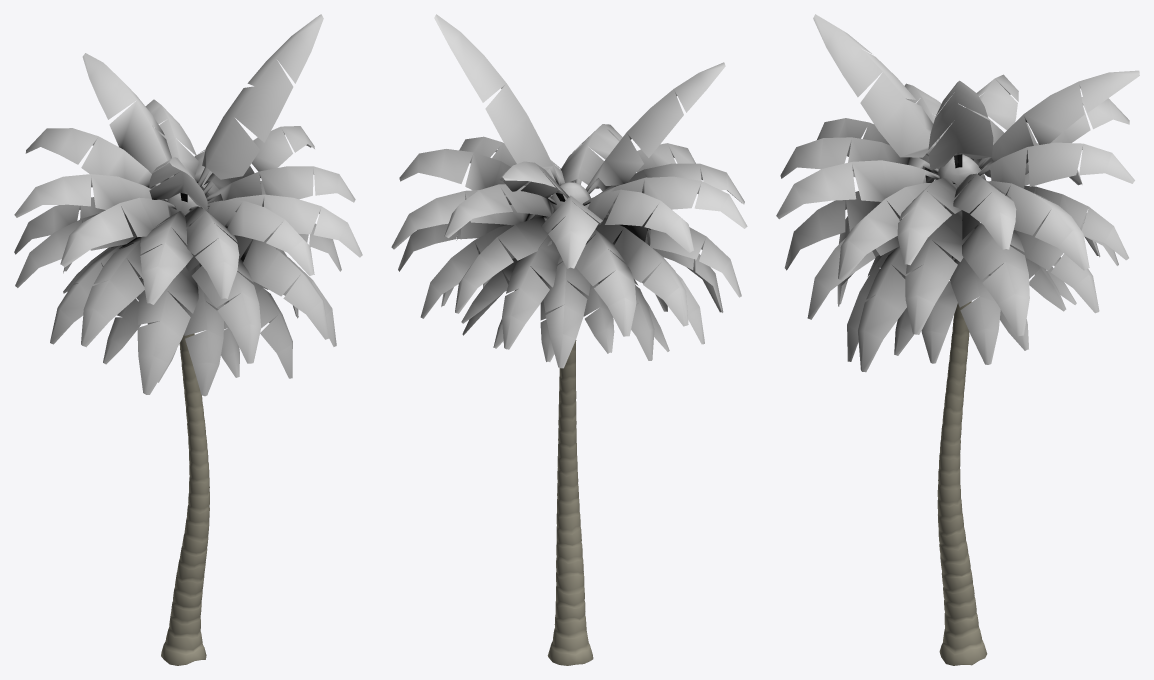
File: ballpit_palmtree_c.fbx
3 renders of one model, left to right at view 1: azimuth 30°, elevation 25°; view 2: azimuth 150°, elevation 25°; view 3: azimuth 270°, elevation 25°, orthographic. The views are drawn at different scales.
Parts seen in each view (by area): view 1: Palm Tree C; view 2: Palm Tree C; view 3: Palm Tree C.
Part boxes in pixels (box(x1,y1,x2,y2)): Palm Tree C: box(14, 14, 362, 665); Palm Tree C: box(391, 14, 747, 665); Palm Tree C: box(776, 14, 1139, 665).
Bounding box in the file's own units: 8.99 × 17.46 × 8.91.
